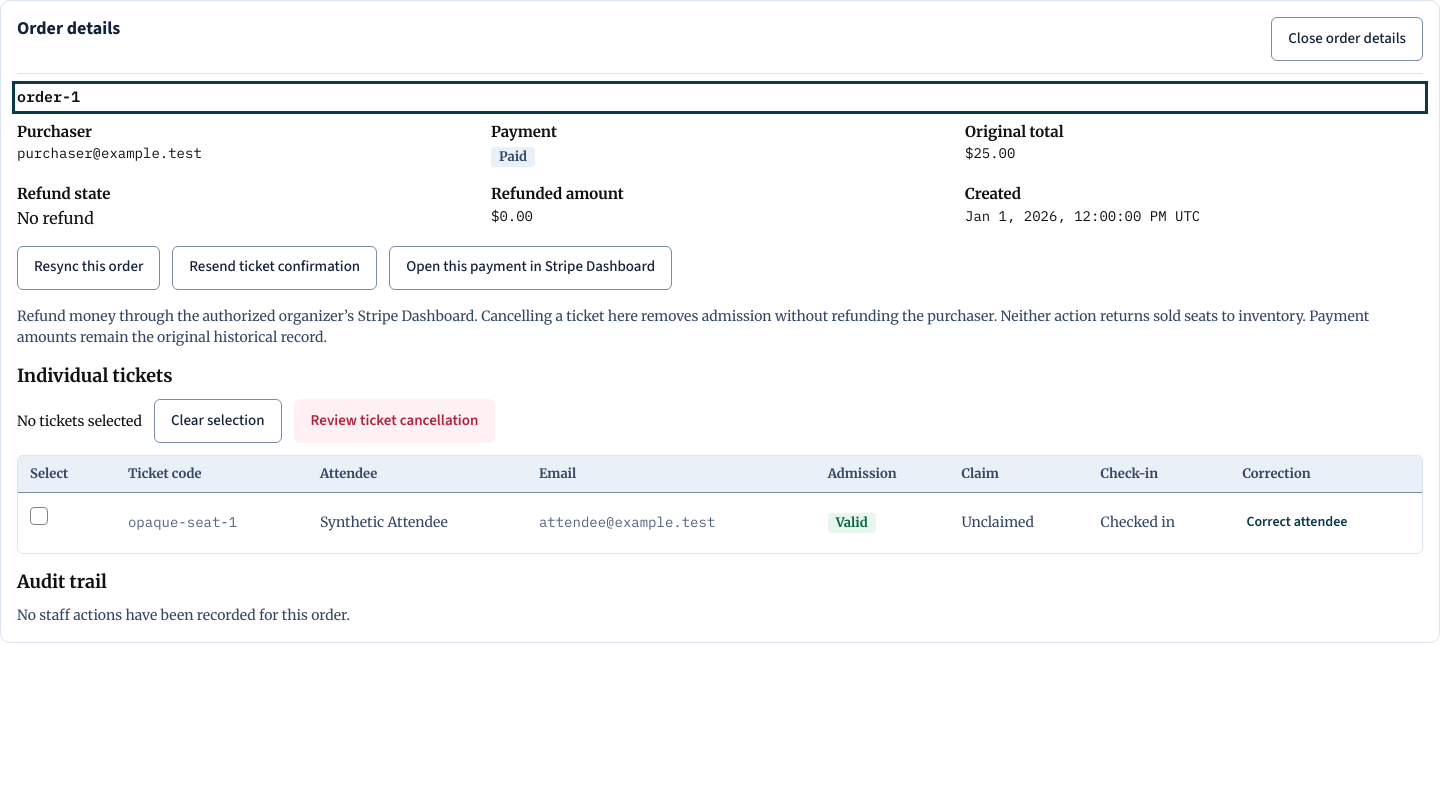
organizer order management › locks the email on an already checked-in unclaimed ticket
Click the button "Correct attendee" at (1297, 523), box [1242,510,1351,535]
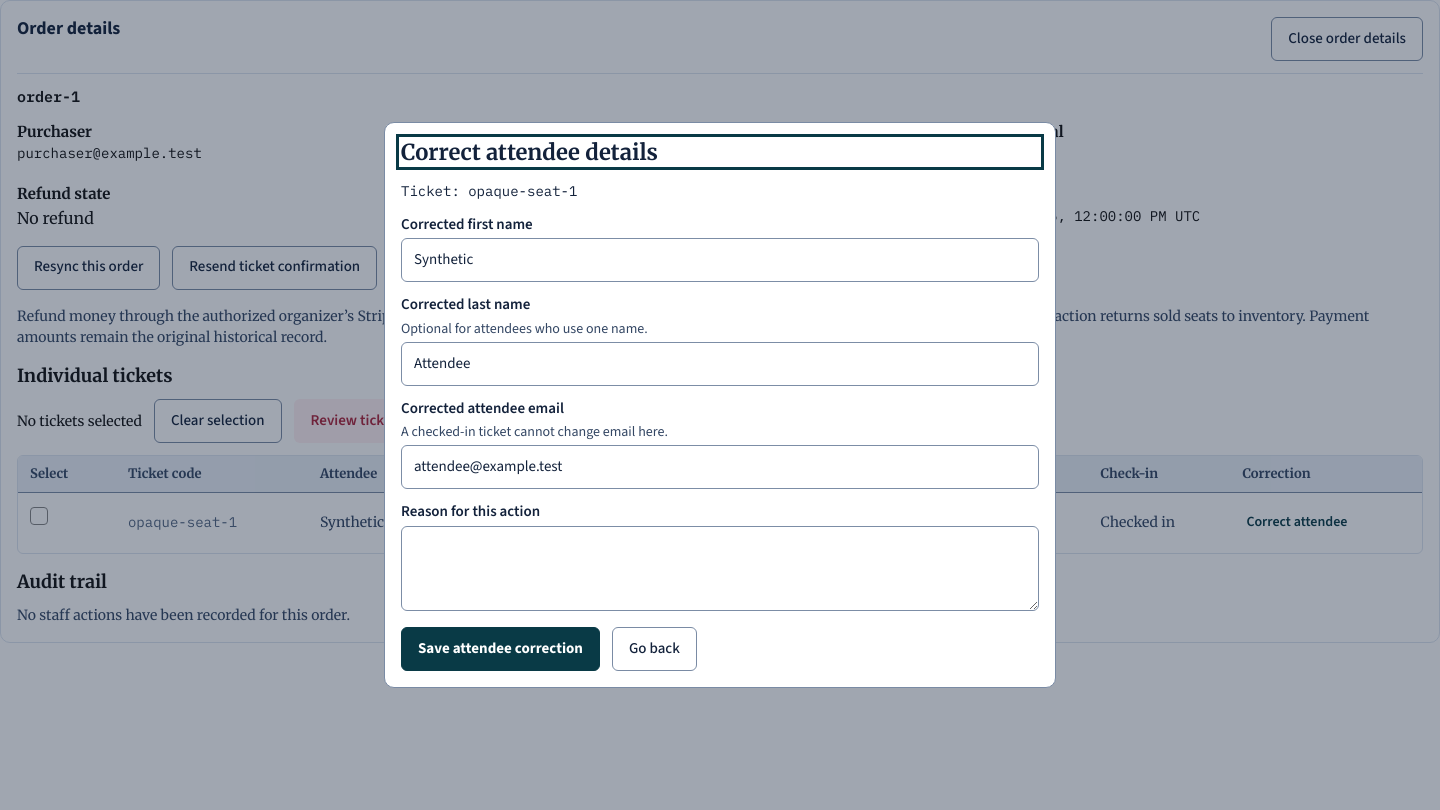
Now the text "A checked-in ticket cannot change email here." is shown, box [401,422,668,442]
